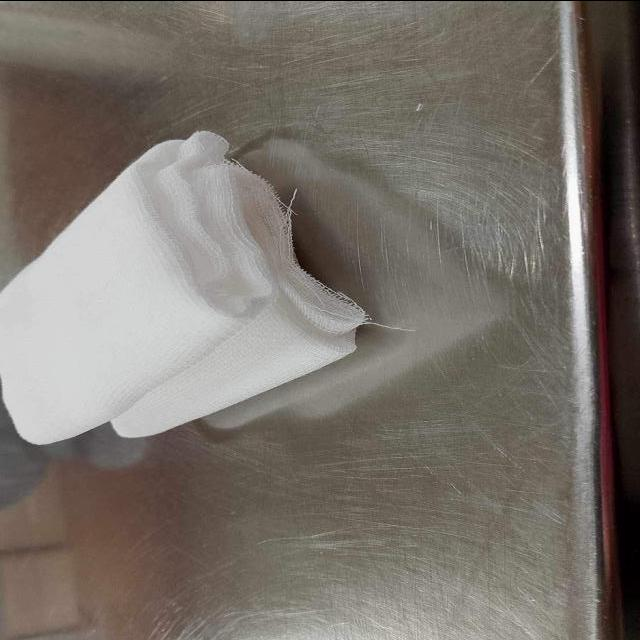General: (1, 1, 632, 637)
Infectious: (0, 128, 372, 445)
